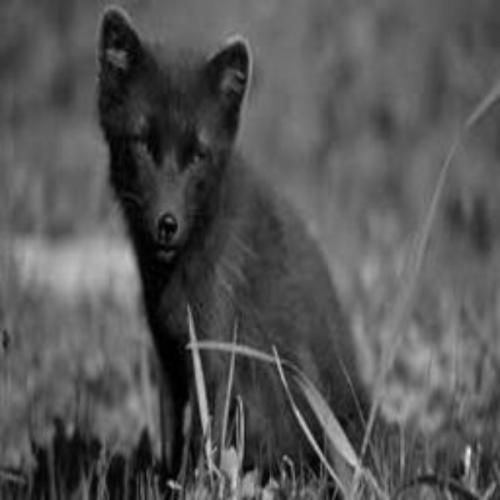arctic_fox-endangered: (96, 7, 369, 471)
